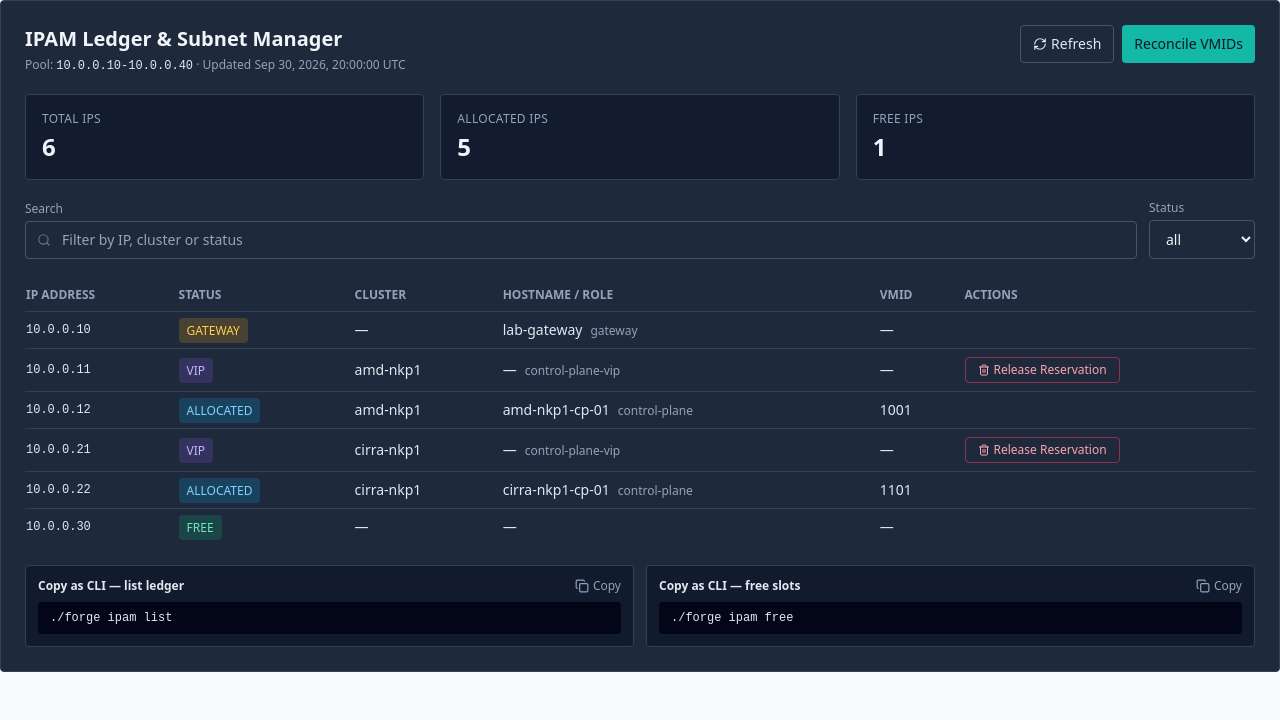
Test: IpamPage › release requires typing RELEASE, then posts the cluster and refreshes
Expected: the row with test id "row-ipam-10.0.0.11" is shown, [25,348,1255,392]
Click the button with test id "btn-release-amd-nkp1" at point(1042, 370), box [964,357,1120,383]
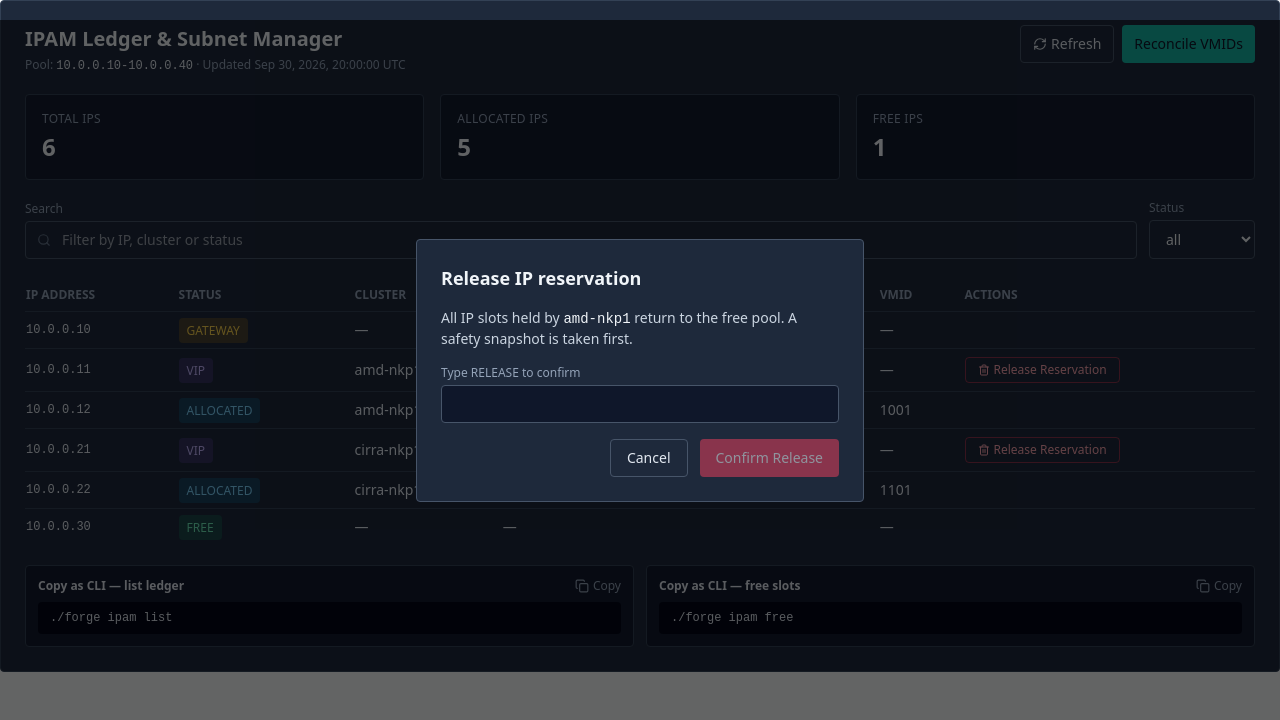
Now the element with test id "modal-confirm-release" shows "amd-nkp1", box [563,310,631,326]
Now the button with test id "btn-confirm-release" is disabled, box [700,438,839,476]
Type "release" into the field with test id "input-confirm-release" at point(640, 404), box [441,384,839,422]
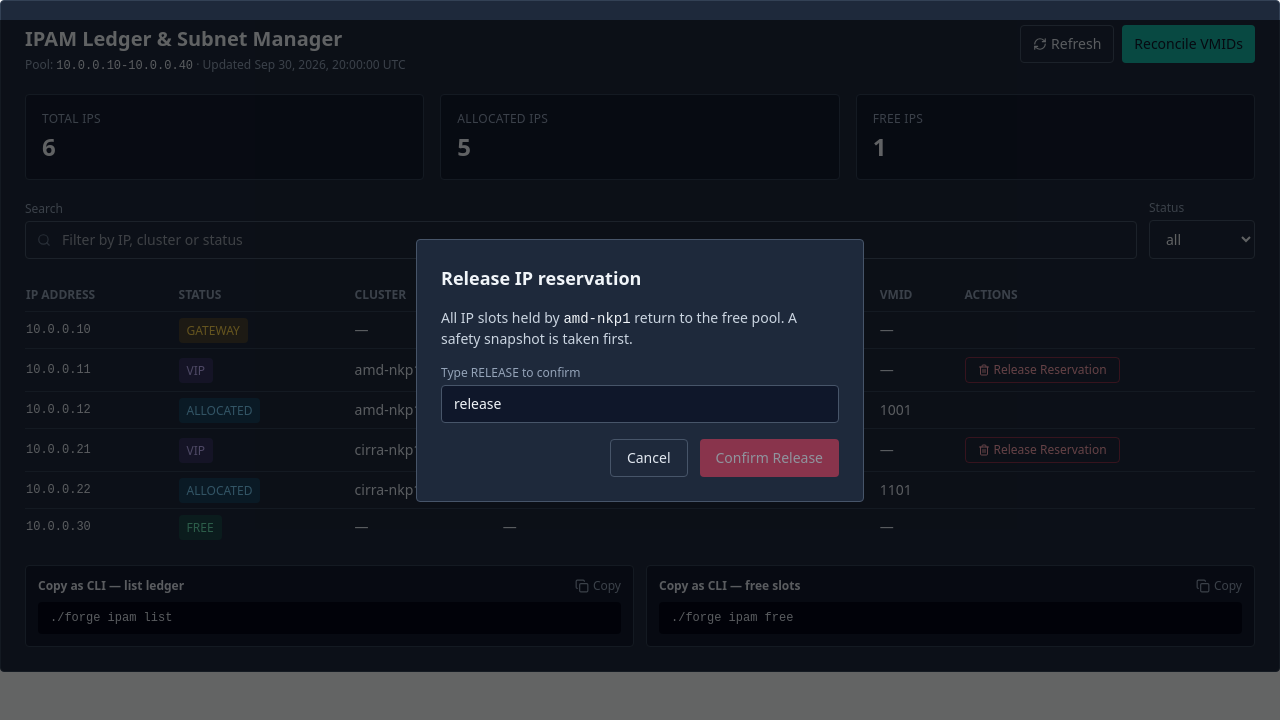
Now the button with test id "btn-confirm-release" is disabled, box [700,438,839,476]
Replace the text in the field with test id "input-confirm-release" with "RELEASE" at point(640, 404), box [441,384,839,422]
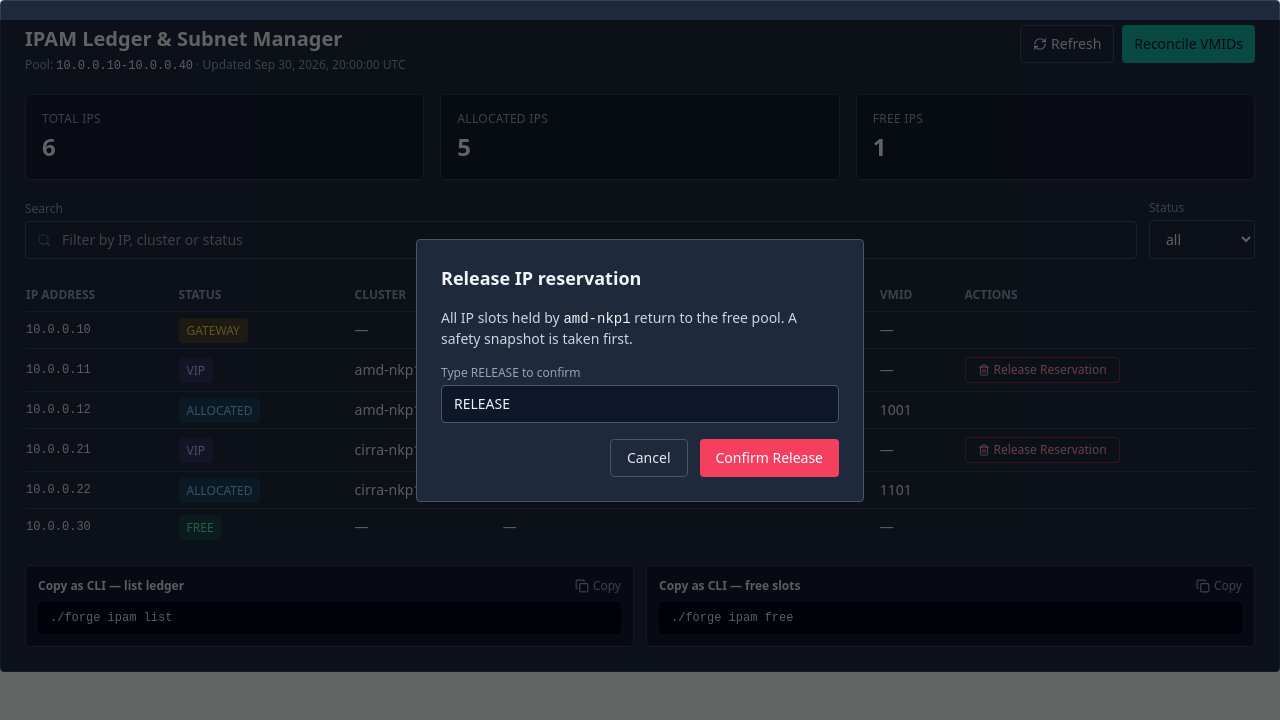
Now the button with test id "btn-confirm-release" is enabled
Click the button with test id "btn-confirm-release" at point(769, 458), box [700,438,839,476]
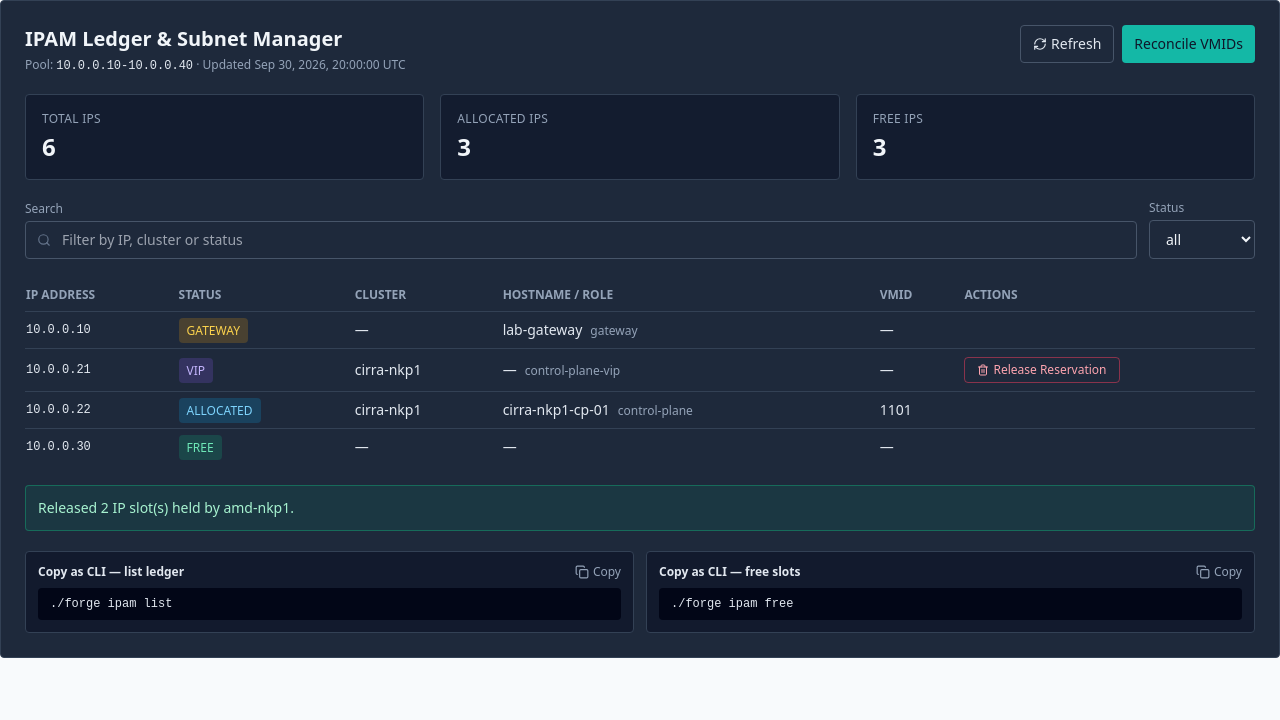
Now the element with test id "modal-confirm-release" is gone
Now the text with test id "alert-ipam-result" shows "Released 2 IP slot(s) held by amd-nkp1", box [38,498,294,517]
Now the element with test id "card-ipam-free" shows "3", box [873,130,886,163]
